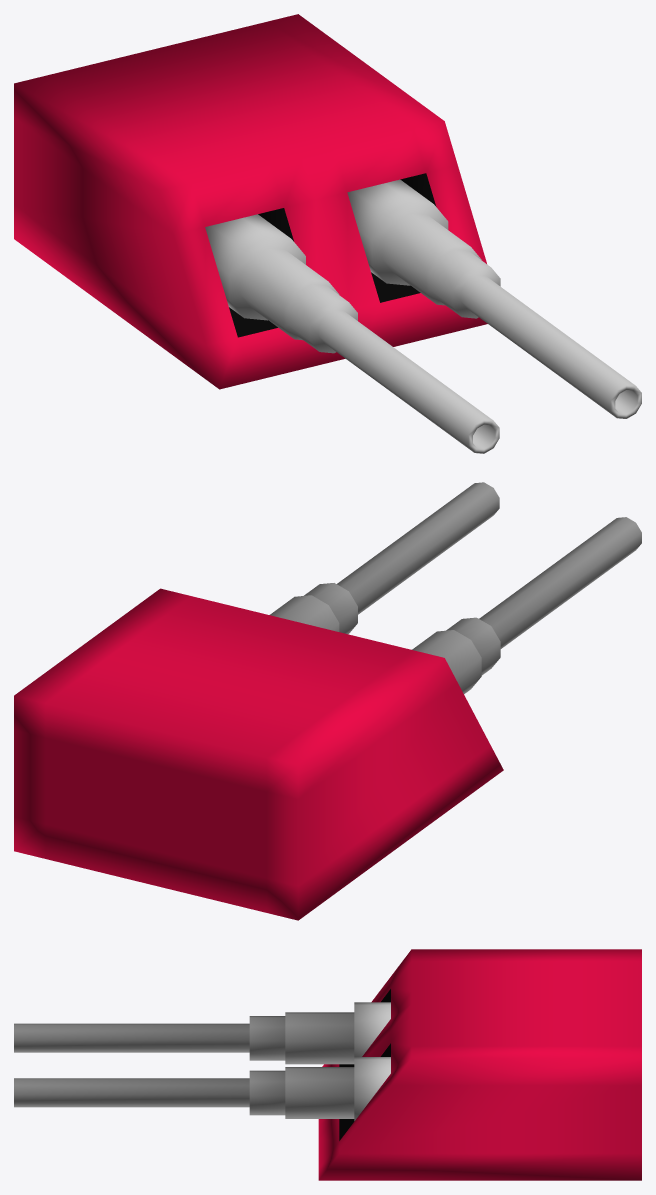
File: akimbo.fbx
3 views of the same model, one above another, from view 1: azimuth 30°, elevation 25°; view 2: azimuth 150°, elevation 25°; view 3: azimuth 270°, elevation 25° (orthographic). The views are drawn at different scales.
Parts seen in each view (by area): view 1: akimbo_body, akimbo_canon; view 2: akimbo_body, akimbo_canon; view 3: akimbo_body, akimbo_canon.
Part boxes in pixels (x1,y1,x2,y2): akimbo_body: [14, 14, 487, 389]; akimbo_canon: [205, 179, 641, 453]; akimbo_body: [14, 588, 503, 920]; akimbo_canon: [270, 482, 641, 693]; akimbo_body: [318, 949, 641, 1180]; akimbo_canon: [14, 1002, 390, 1120].
Bounding box in the file's own units: 46.16 × 24.14 × 112.
